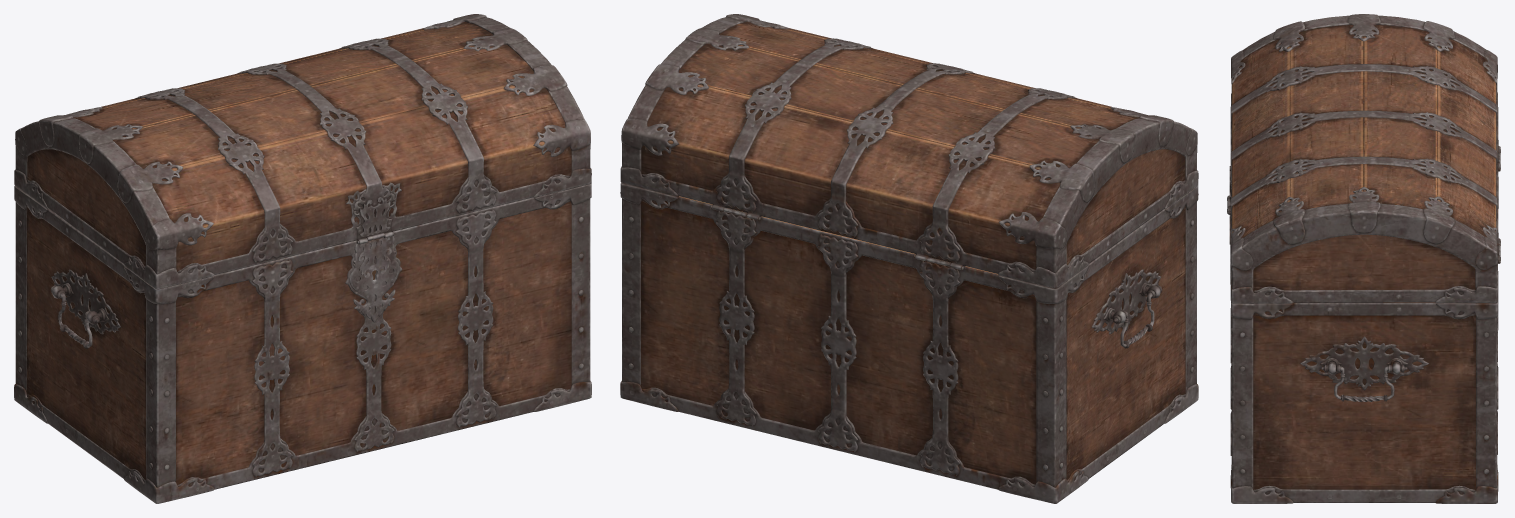
The model's file is bau.fbx.
3 views of the same model, side by side, from view 1: azimuth 30°, elevation 25°; view 2: azimuth 150°, elevation 25°; view 3: azimuth 270°, elevation 25° (orthographic). The views are drawn at different scales.
Parts seen in each view (by area): view 1: treasure_chest_bottom, treasure_chest_lid, treasure_chest_lock, treasure_chest_handle_left; view 2: treasure_chest_bottom, treasure_chest_lid, treasure_chest_handle_left; view 3: treasure_chest_lid, treasure_chest_bottom, treasure_chest_handle_right.
Part boxes in pixels (left/top/right/bottom): treasure_chest_bottom: left=14, top=183, right=591, bottom=503; treasure_chest_lid: left=14, top=14, right=591, bottom=289; treasure_chest_lock: left=349, top=233, right=399, bottom=322; treasure_chest_handle_left: left=50, top=285, right=100, bottom=348; treasure_chest_bottom: left=620, top=182, right=1198, bottom=503; treasure_chest_lid: left=620, top=14, right=1198, bottom=288; treasure_chest_handle_left: left=1112, top=285, right=1162, bottom=348; treasure_chest_lid: left=1227, top=14, right=1500, bottom=303; treasure_chest_bottom: left=1230, top=152, right=1500, bottom=503; treasure_chest_handle_right: left=1321, top=364, right=1407, bottom=401.
Size of the model in its own units: 95.9 by 61.8 by 52.29.
